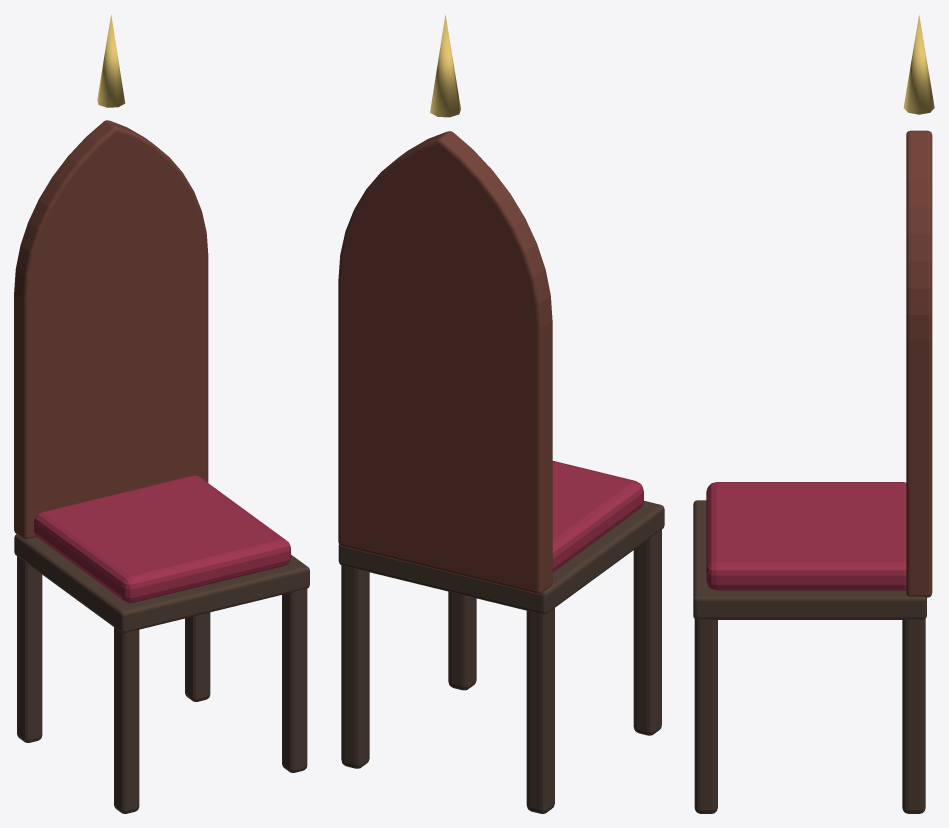
The model's file is chair_small_throne.glb.
The picture shows the model from 3 angles, left to right: view 1: azimuth 30°, elevation 25°; view 2: azimuth 150°, elevation 25°; view 3: azimuth 270°, elevation 25°; orthographic projection. The views are drawn at different scales.
Visible parts, largest first — view 1: GD_chair_small_throne__m2, GD_chair_small_throne__m0, GD_chair_small_throne__m1, GD_chair_small_throne__m3; view 2: GD_chair_small_throne__m2, GD_chair_small_throne__m0, GD_chair_small_throne__m1, GD_chair_small_throne__m3; view 3: GD_chair_small_throne__m1, GD_chair_small_throne__m0, GD_chair_small_throne__m2, GD_chair_small_throne__m3.
Boxes of the visible parts, box(x1,y1,x2,y2) form: GD_chair_small_throne__m2: box(14, 120, 208, 539); GD_chair_small_throne__m0: box(14, 534, 309, 813); GD_chair_small_throne__m1: box(34, 475, 290, 603); GD_chair_small_throne__m3: box(97, 14, 125, 107); GD_chair_small_throne__m2: box(338, 131, 552, 594); GD_chair_small_throne__m0: box(338, 500, 664, 813); GD_chair_small_throne__m1: box(552, 461, 643, 572); GD_chair_small_throne__m3: box(430, 14, 460, 117); GD_chair_small_throne__m1: box(706, 482, 906, 590); GD_chair_small_throne__m0: box(693, 500, 926, 813); GD_chair_small_throne__m2: box(906, 130, 932, 597); GD_chair_small_throne__m3: box(903, 14, 934, 114).
Bounding box in the file's own units: 0.45 × 1.6 × 0.465.
